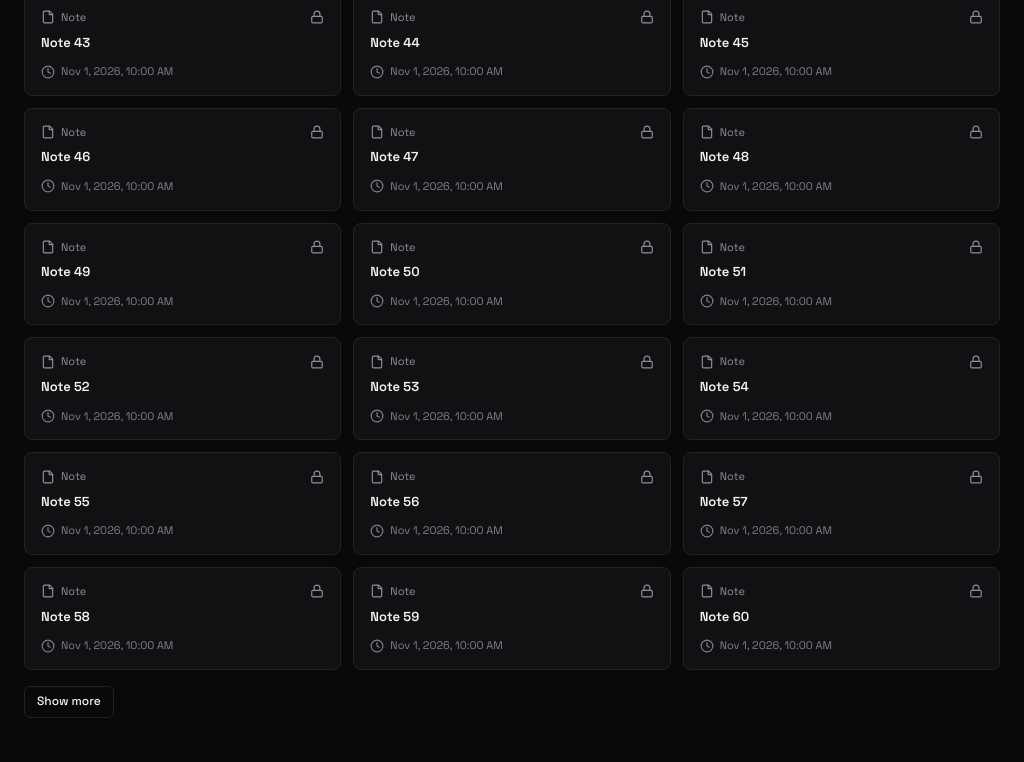
it: Show more asks for a larger page
(page scrolled)
expect the text "Note 70" is not shown: met
Click the button "Show more": (69, 702) top-left (24, 686), bottom-right (114, 718)
(page scrolled)
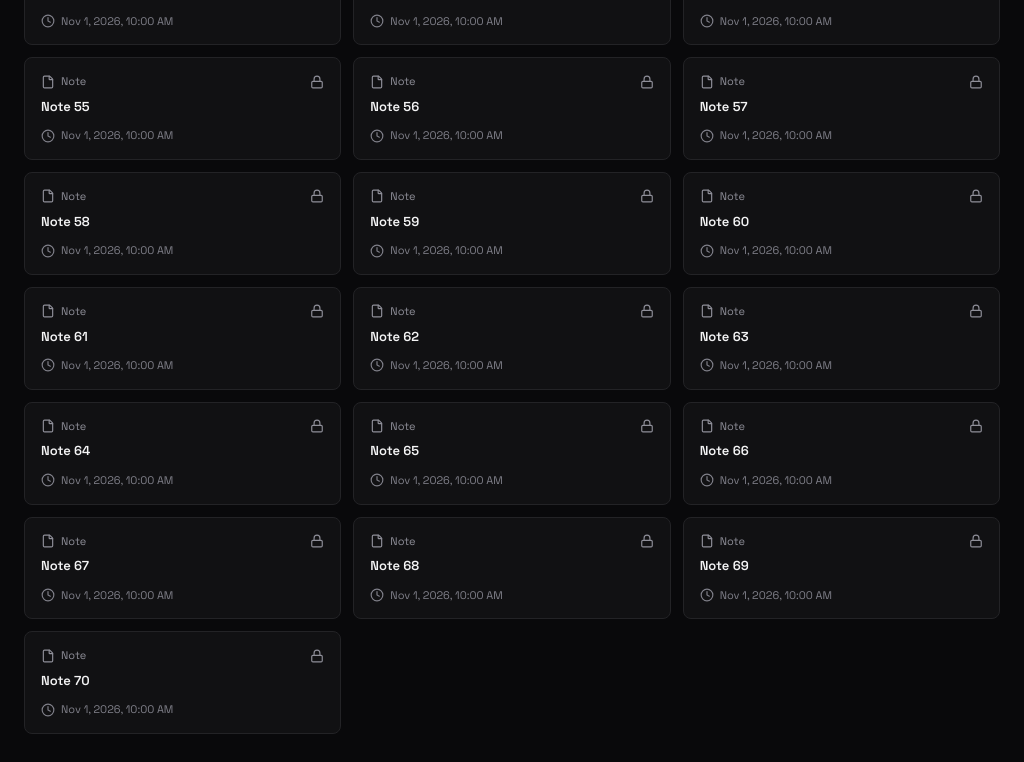
expect the heading "Note 70" is shown: met, box top-left (41, 672), bottom-right (90, 689)
expect the button "Show more" is gone: met
